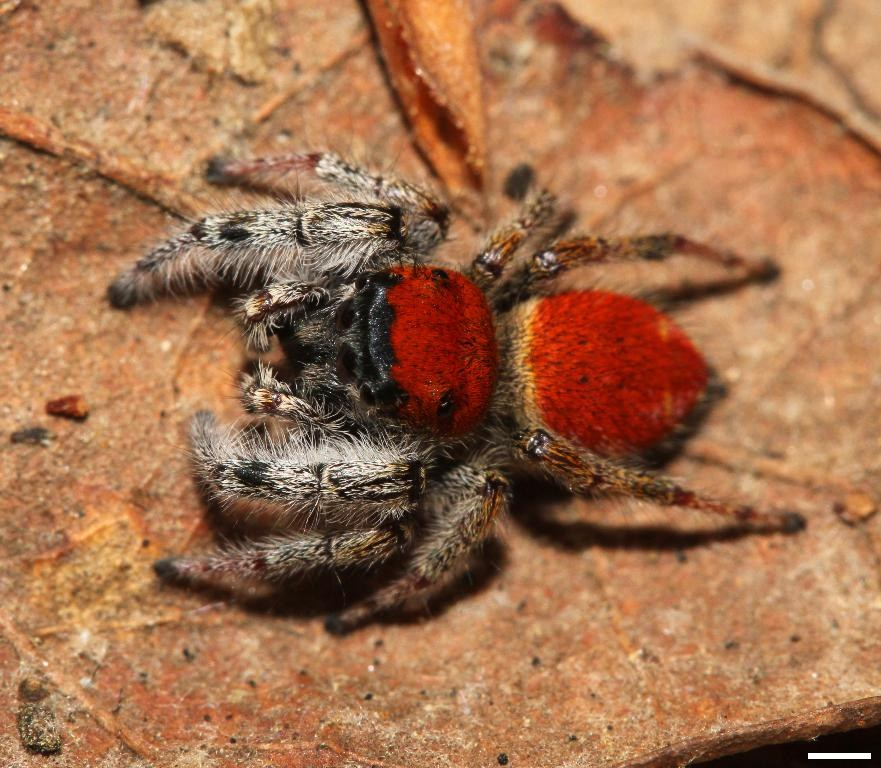insect: (96, 124, 811, 637), (100, 149, 808, 637)
